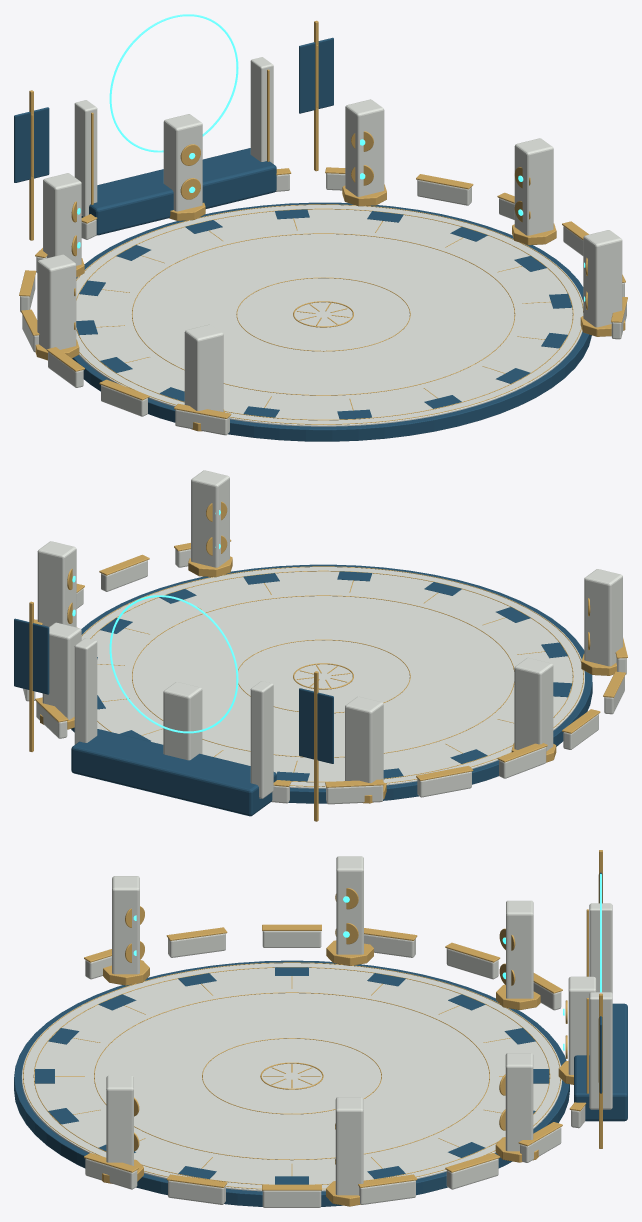
The model's file is SM_HC_Static_00.fbx.
The picture shows the model from 3 angles, top to bottom: view 1: azimuth 30°, elevation 25°; view 2: azimuth 150°, elevation 25°; view 3: azimuth 270°, elevation 25°; orthographic projection. The views are drawn at different scales.
Parts seen in each view (by area): view 1: SM_HC_Static_00; view 2: SM_HC_Static_00; view 3: SM_HC_Static_00.
Boxes of the visible parts, bbox=[...] form: SM_HC_Static_00: bbox=[14, 14, 627, 441]; SM_HC_Static_00: bbox=[14, 470, 627, 821]; SM_HC_Static_00: bbox=[14, 850, 627, 1207].
Bounding box in the file's own units: 4055 × 3975 × 1497.
